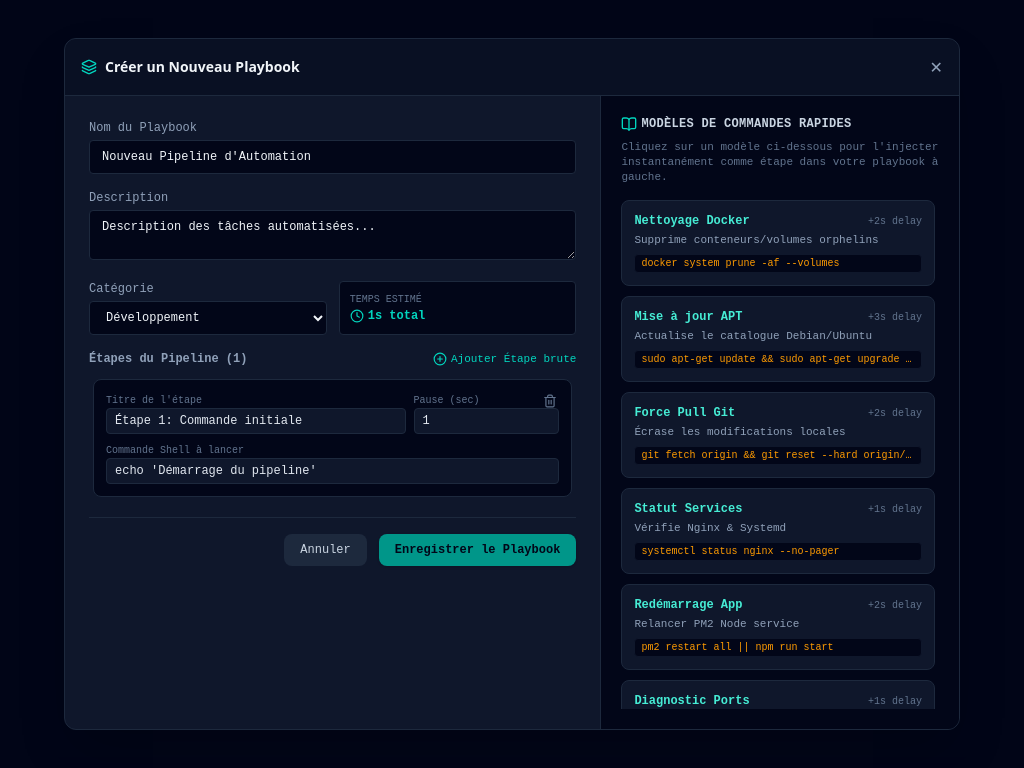
Test case: PlaybookFormModal › ajoute une étape via le bouton +
Expected: the text "Étapes du Pipeline (1)" is shown, 89,351 -> 247,367
Click the button "Ajouter Étape brute" at coordinates (505, 359), box 433,352 -> 576,367
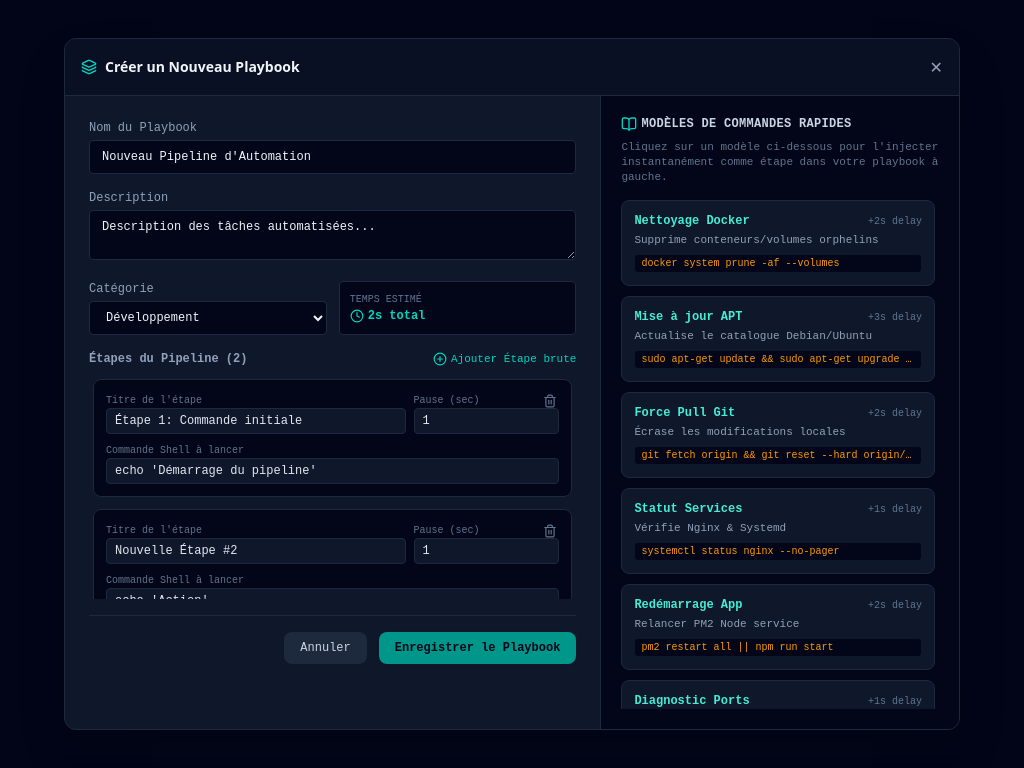
Now the text "Étapes du Pipeline (2)" is shown, box 89,351 -> 247,367
